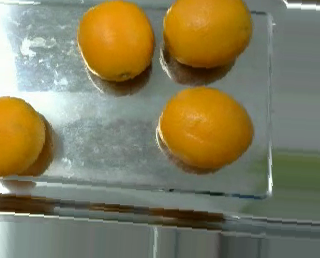Orange: (157, 85, 254, 168), (77, 1, 155, 81), (162, 1, 253, 68)
